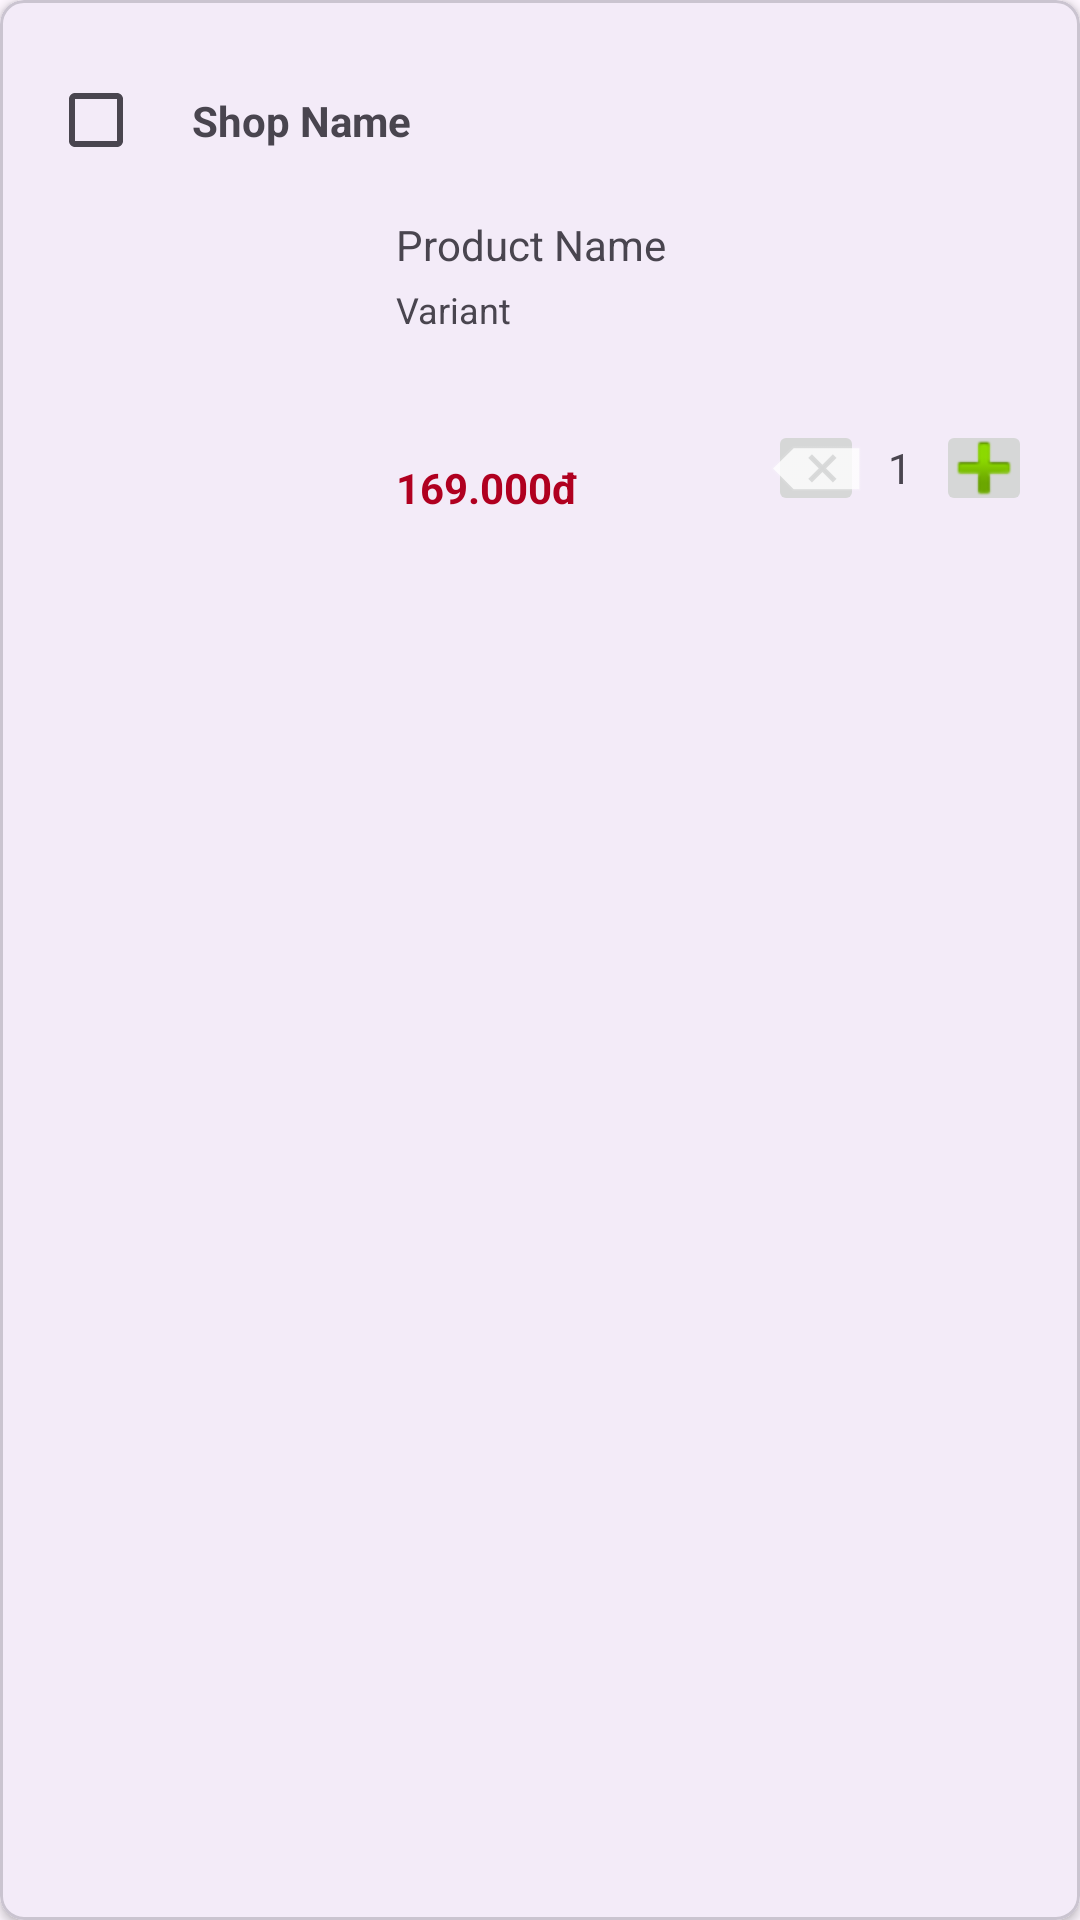

Named icons in this screenshot (1080px×1920px) and their bounding boxes, (x1, y1, x2, y2):
add: (948, 438, 1020, 498)
delete: (773, 438, 859, 498)
